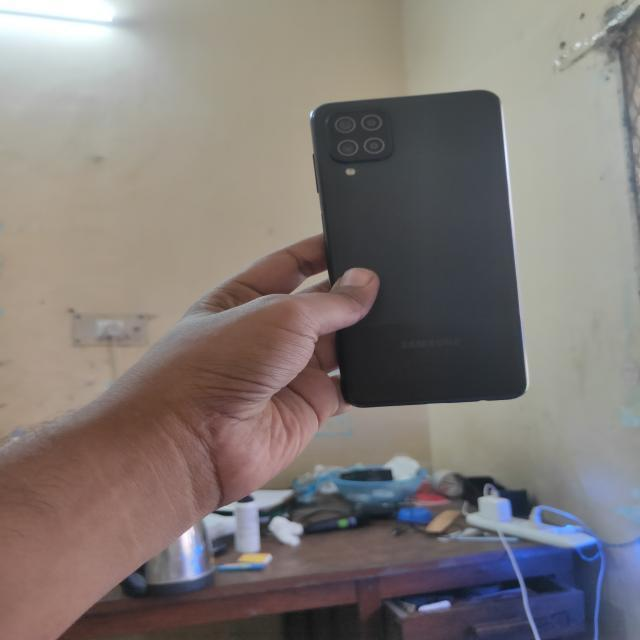Phone: (306, 89, 532, 412)
